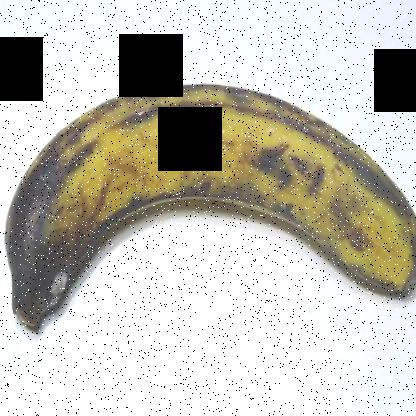overripe: (0, 9, 415, 352)
rotten: (0, 117, 95, 336)
